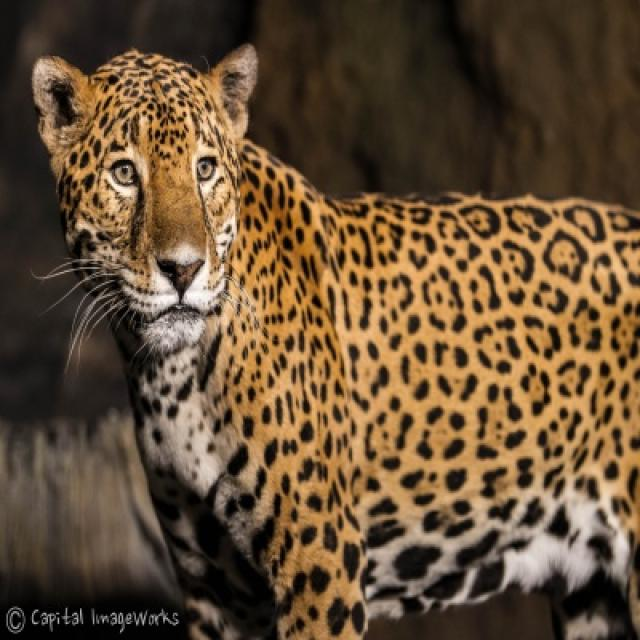Jaguar: (29, 45, 638, 638)
